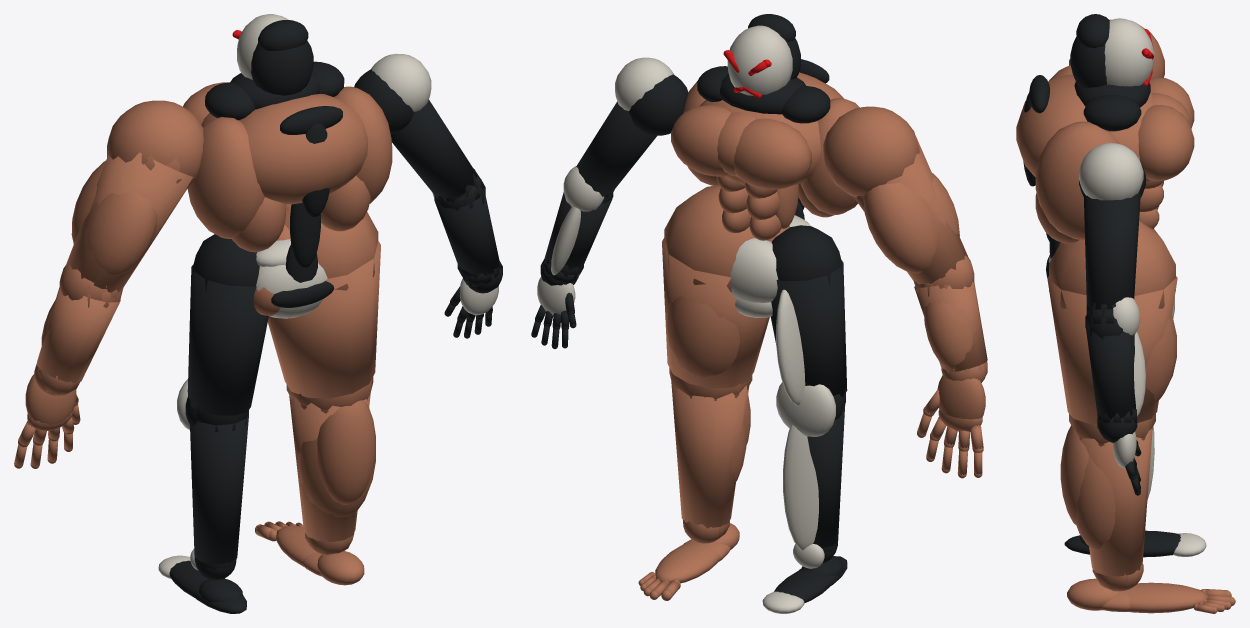
3 views of the same model, side by side, from view 1: azimuth 30°, elevation 25°; view 2: azimuth 150°, elevation 25°; view 3: azimuth 270°, elevation 25° (orthographic). The views are drawn at different scales.
Bounding box in the file's own units: 2.22 × 2.57 × 0.9071.
